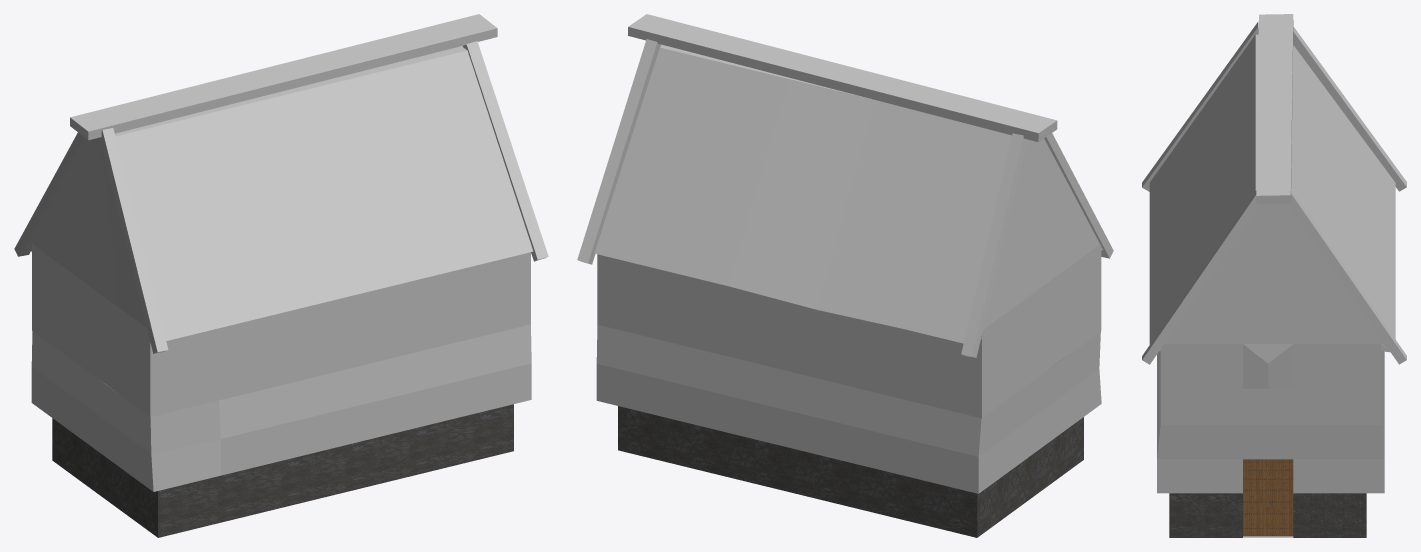
File: house_wood.fbx
The picture shows the model from 3 angles, left to right: view 1: azimuth 30°, elevation 25°; view 2: azimuth 150°, elevation 25°; view 3: azimuth 270°, elevation 25°; orthographic projection. The views are drawn at different scales.
Parts seen in each view (by area): view 1: Cube, Cube.005, Cube.003, Cube.004, Cube.002; view 2: Cube, Cube.005, Cube.002, Cube.071, Cube.003; view 3: Cube, Cube.005, Cube.071, Cube.004, Cube.002, Cube.003.
Boxes of the visible parts, x1,y1,x2,y2 form: Cube: (26,46,533,537); Cube.005: (70,14,497,140); Cube.003: (99,128,168,353); Cube.004: (463,41,548,261); Cube.002: (14,132,84,256); Cube: (594,44,1102,537); Cube.005: (628,14,1057,142); Cube.002: (961,133,1027,357); Cube.071: (577,39,661,264); Cube.003: (1044,133,1113,258); Cube: (1149,34,1395,537); Cube.005: (1256,14,1293,204); Cube.071: (1287,189,1406,364); Cube.004: (1142,191,1260,364); Cube.002: (1293,26,1406,191); Cube.003: (1142,22,1258,191).
Size of the model in its own units: 1950 by 1744 by 1173.
